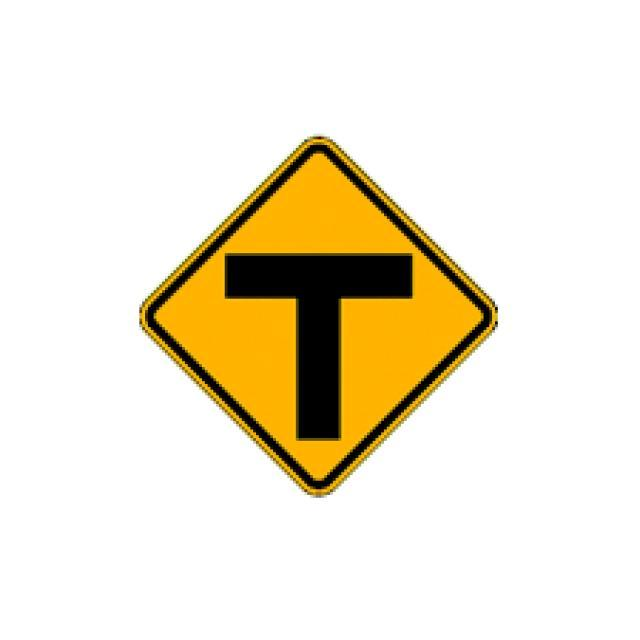t intersection: (142, 136, 500, 498)
